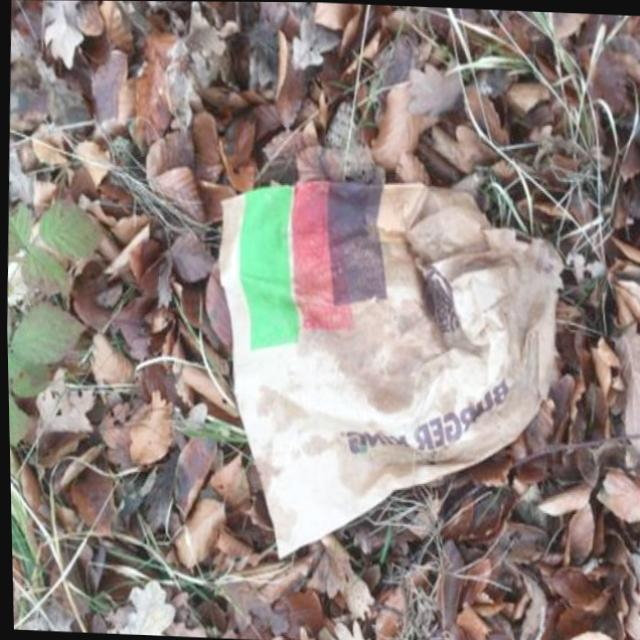Paper: (201, 167, 575, 573)
